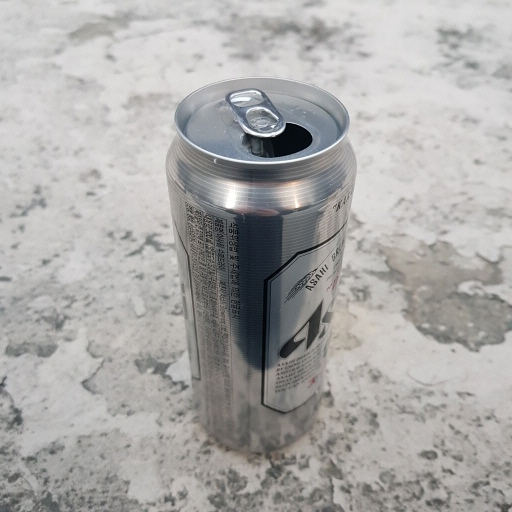Metal_0: (165, 78, 358, 453)
